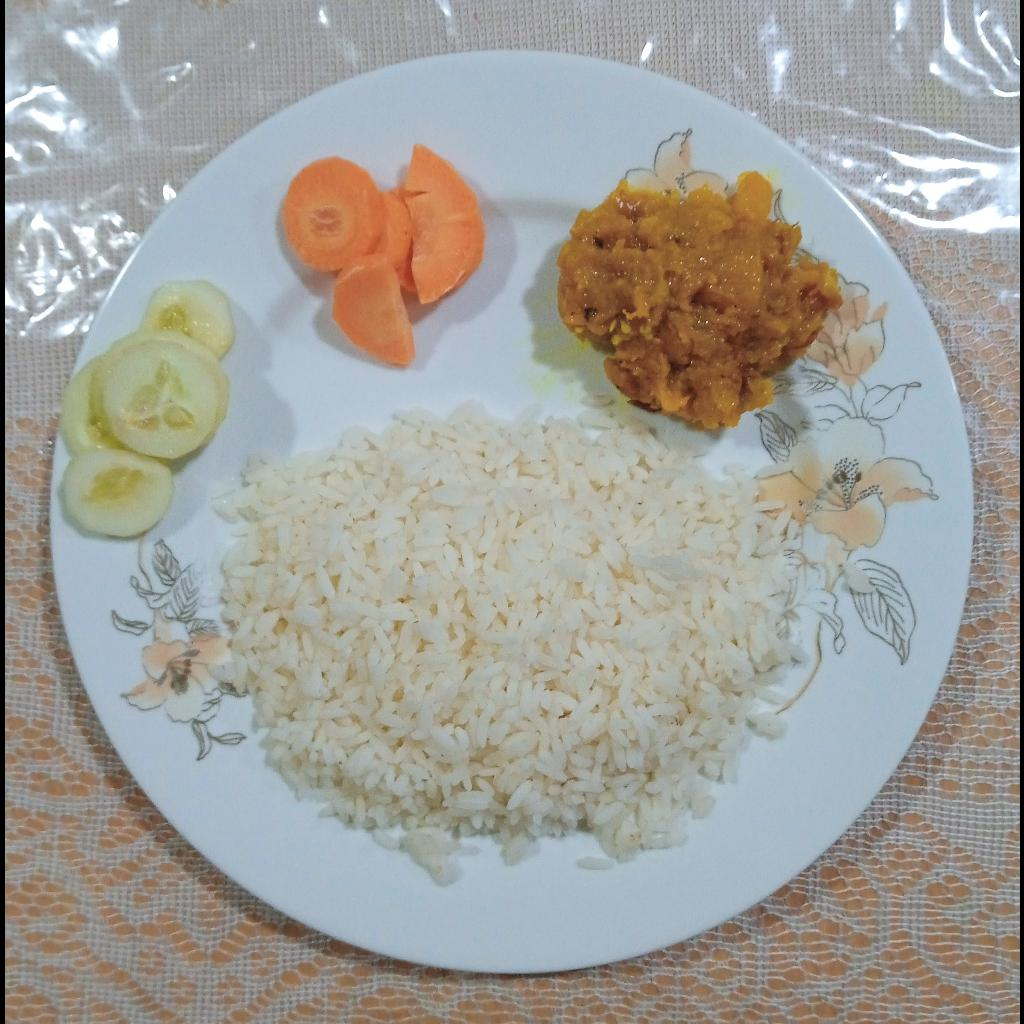carrot: (276, 150, 484, 368)
cucumber: (59, 285, 232, 538)
kumra-vaji: (555, 174, 838, 428)
rice: (205, 401, 807, 882)
